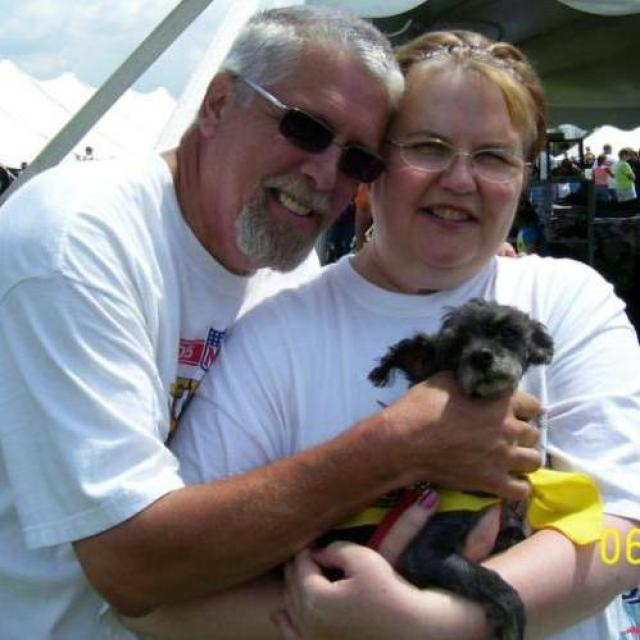dog: (292, 296, 556, 638)
